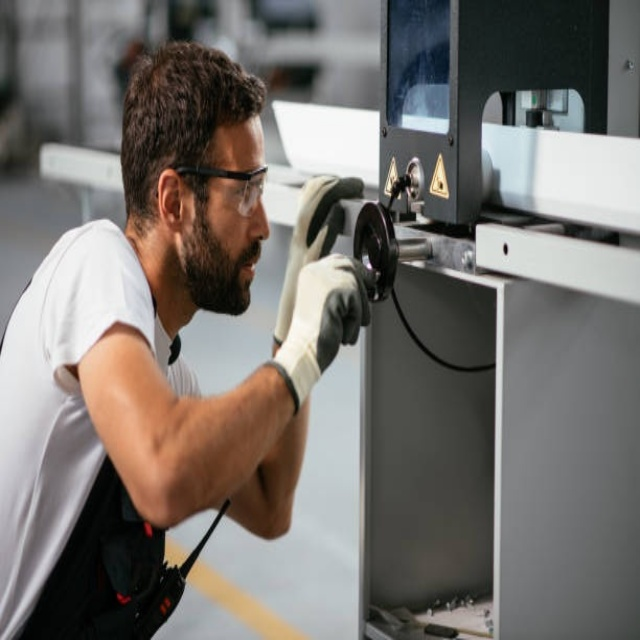Gafas: (162, 164, 267, 216)
Guantes: (274, 173, 366, 348)
Sin_mascara: (223, 245, 264, 307)
